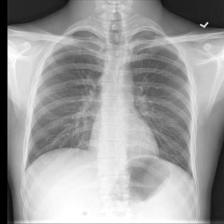normal: (20, 20, 200, 184)
